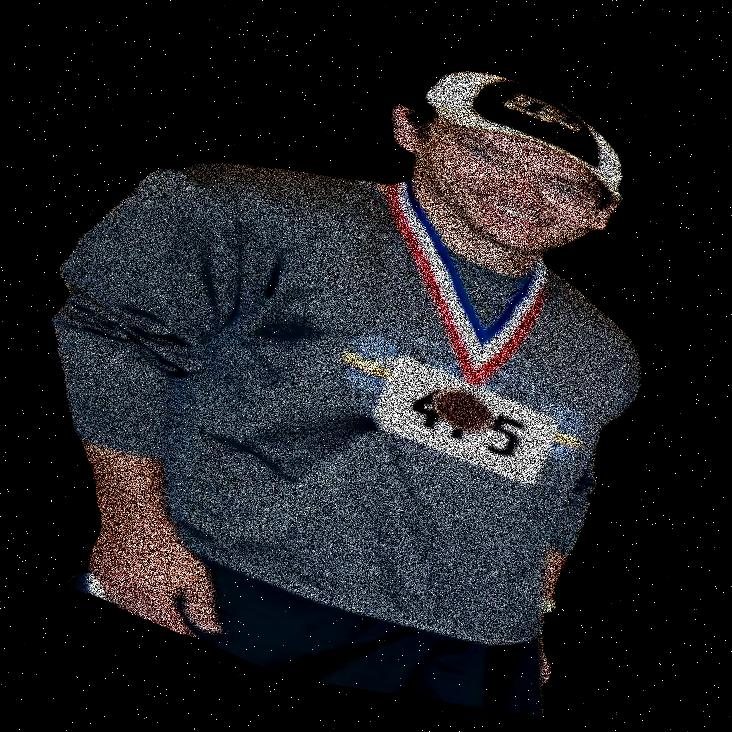Pessoa: (177, 0, 597, 731)
